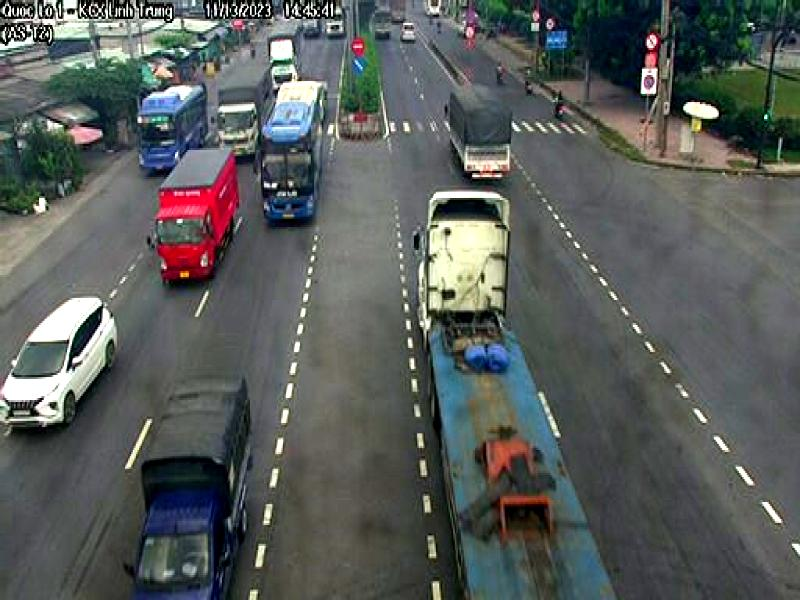bus: (261, 79, 323, 222), (135, 84, 209, 174)
truck: (125, 375, 250, 600), (415, 186, 518, 330), (150, 143, 248, 286)
